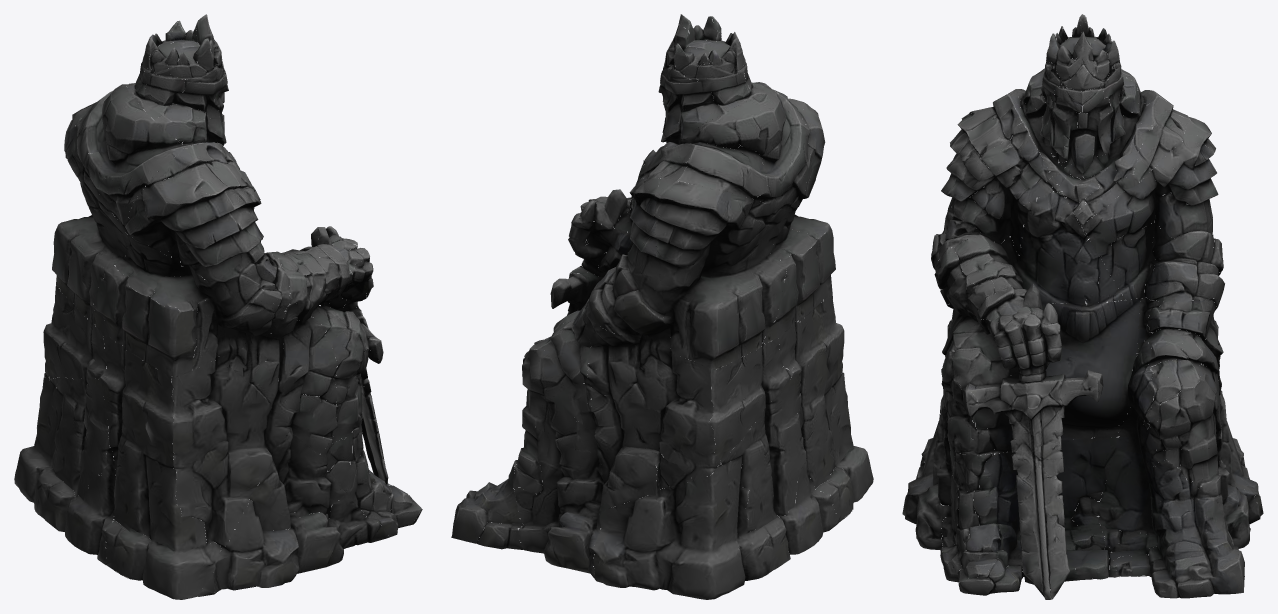
The model's file is warden-render-45k.glb.
3 views of the same model, side by side, from view 1: azimuth 30°, elevation 25°; view 2: azimuth 150°, elevation 25°; view 3: azimuth 270°, elevation 25° (orthographic).
Visible parts, largest first — view 1: warden_DIRECT_LOD0; view 2: warden_DIRECT_LOD0; view 3: warden_DIRECT_LOD0.
Part boxes in pixels (box(x1,y1,x2,y2)): warden_DIRECT_LOD0: box(14, 14, 422, 599); warden_DIRECT_LOD0: box(451, 14, 873, 599); warden_DIRECT_LOD0: box(902, 14, 1263, 599).
Bounding box in the file's own units: 6.18 × 10.01 × 6.67.
Materials: 1 (1 with a texture image).
